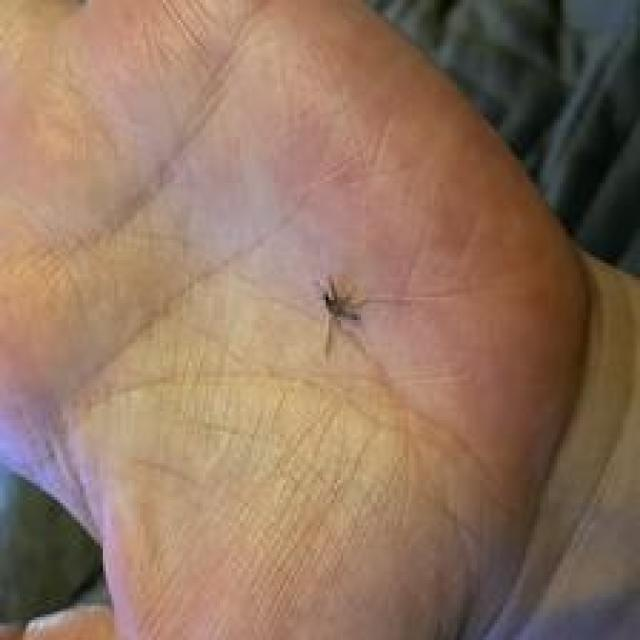Culex: (316, 272, 367, 357)
